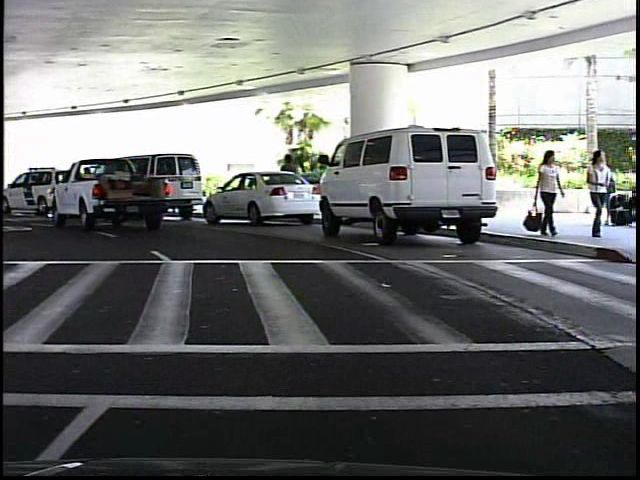person: (533, 145, 563, 237), (583, 147, 612, 240), (279, 149, 305, 213), (607, 155, 612, 229)
